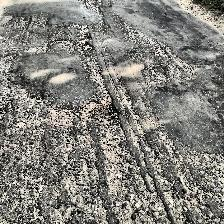pothole: (80, 98, 120, 124), (80, 42, 94, 52)
